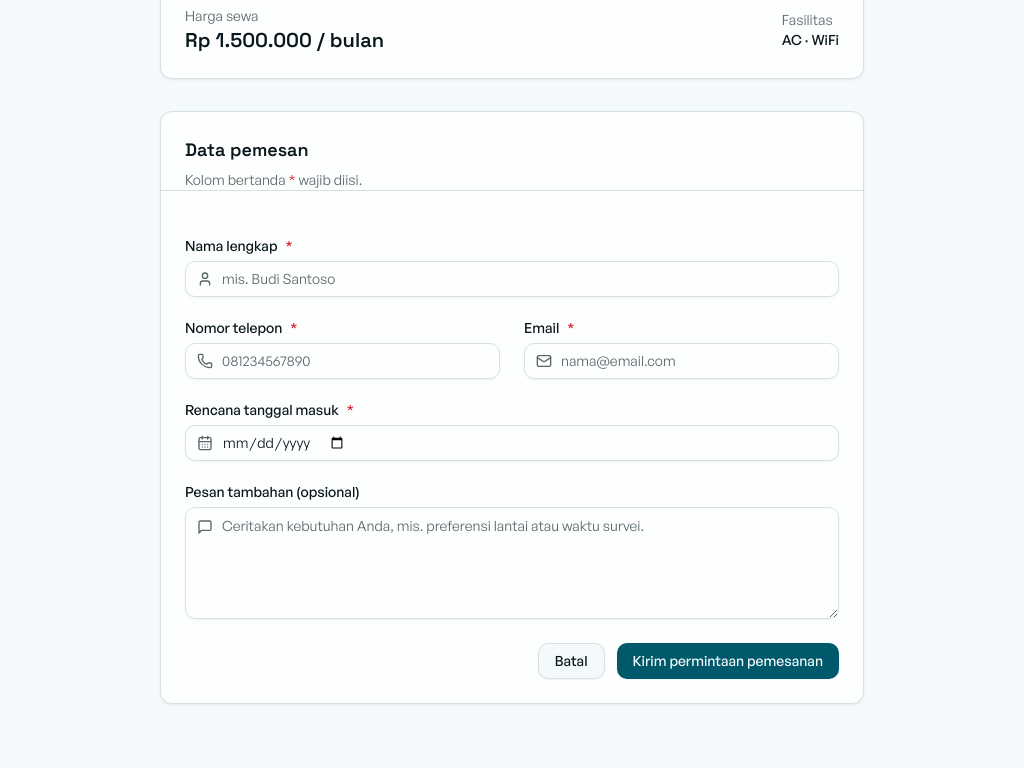
Test: BookingPage › blocks submission and shows validation errors for an empty form
(page scrolled)
Click the button with test id "booking.submit_button".
click(728, 661)  # box top-left (617, 643), bottom-right (839, 679)
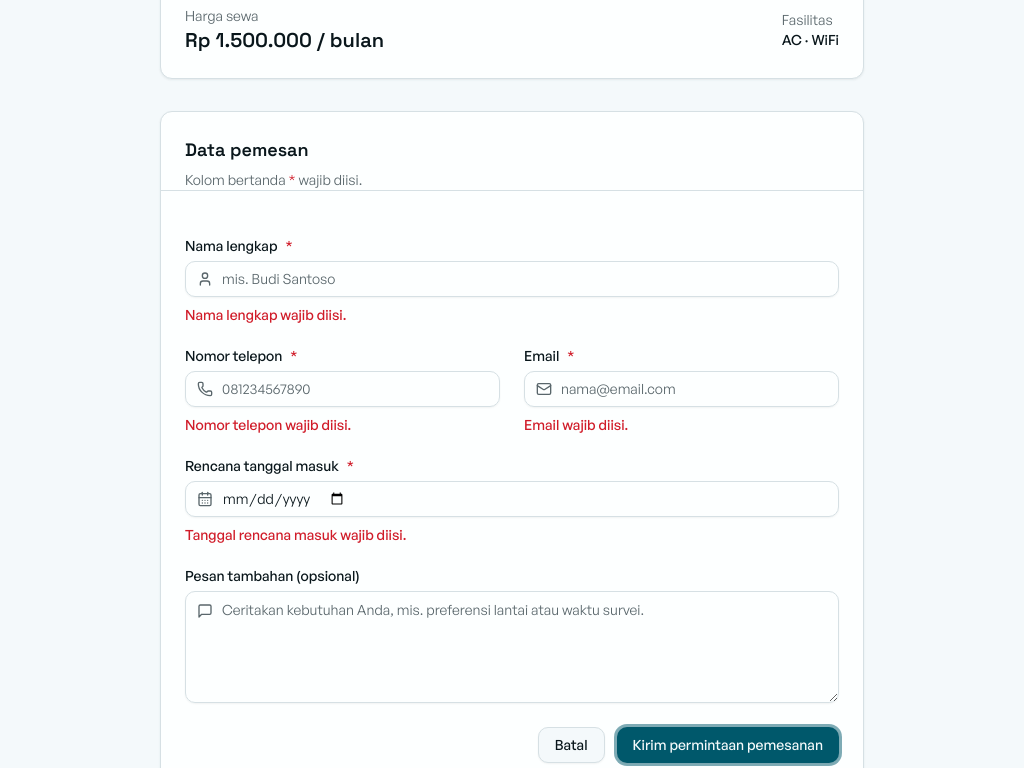
Check: the text "Nama lengkap wajib diisi." is shown, box top-left (185, 306), bottom-right (346, 323)
Check: the text "Nomor telepon wajib diisi." is shown, box top-left (185, 416), bottom-right (351, 433)
Check: the text "Email wajib diisi." is shown, box top-left (524, 416), bottom-right (628, 433)
